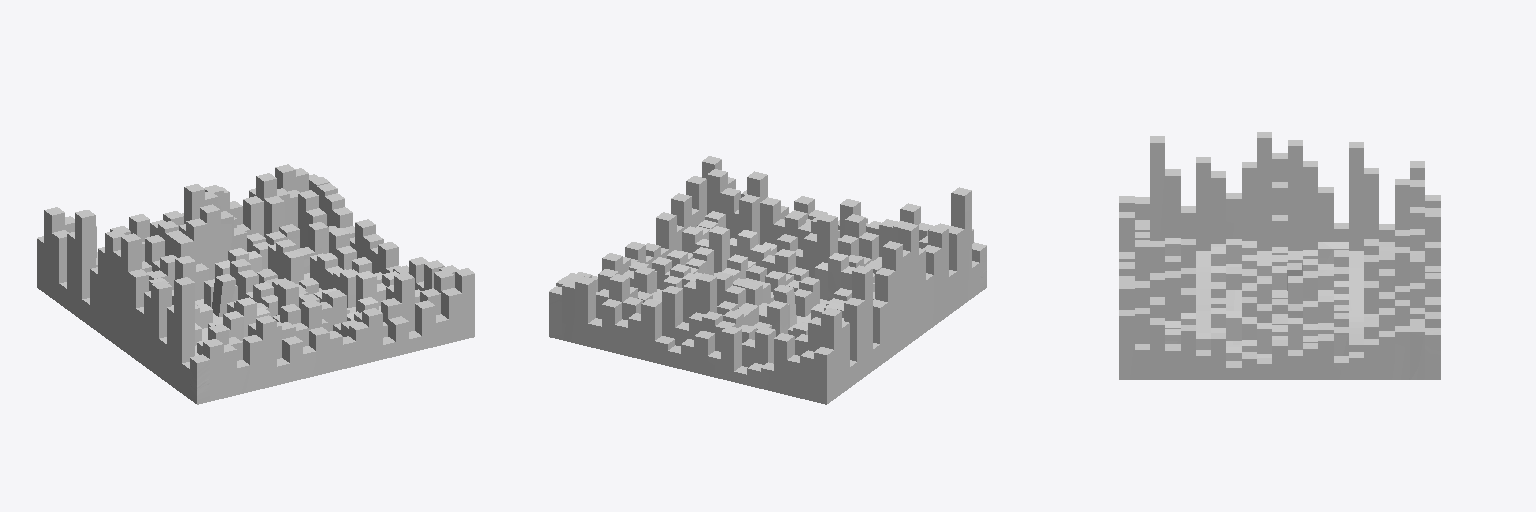
3 views of the same model, side by side, from view 1: azimuth 30°, elevation 25°; view 2: azimuth 150°, elevation 25°; view 3: azimuth 270°, elevation 25° (orthographic).
Visible parts, largest first — view 1: Cube; view 2: Cube; view 3: Cube.
Part boxes in pixels (left/top/right/bottom): Cube: left=37, top=164, right=474, bottom=404; Cube: left=549, top=156, right=986, bottom=404; Cube: left=1119, top=132, right=1440, bottom=379.
Size of the model in its own units: 1.31 by 0.5064 by 1.31.
Materials: 1 (1 with a texture image).